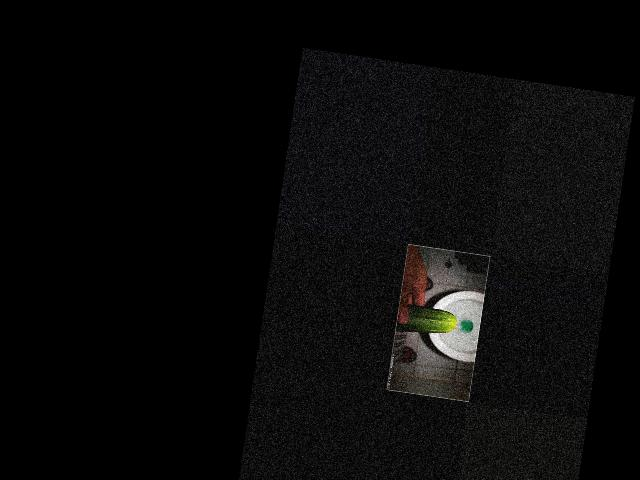cucumber: (394, 303, 457, 339)
